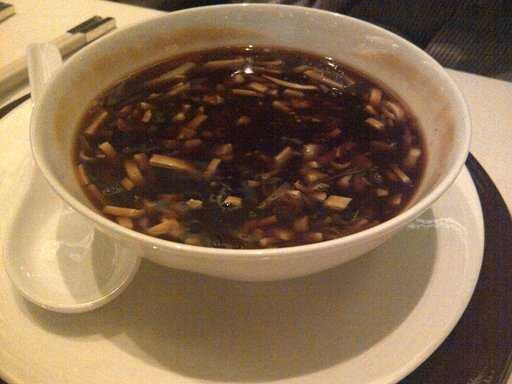soup: (93, 35, 407, 237)
